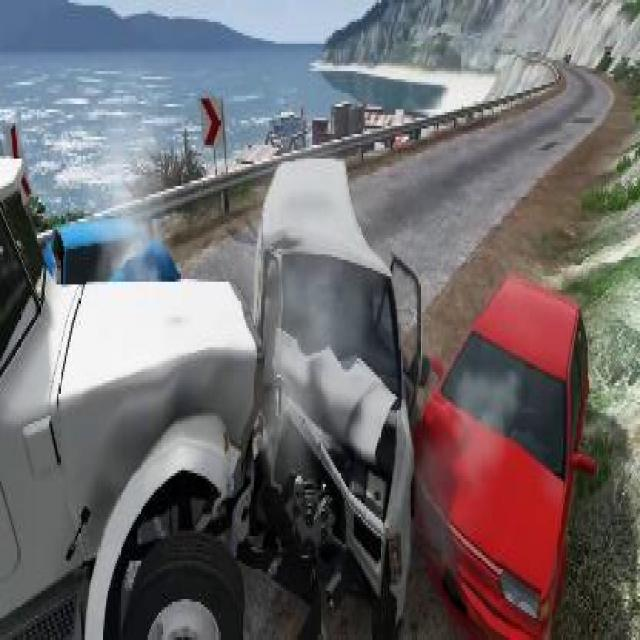accident: (0, 107, 426, 637), (238, 156, 604, 640)
